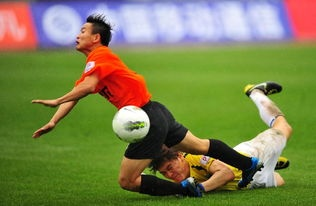falling: (142, 72, 303, 198)
